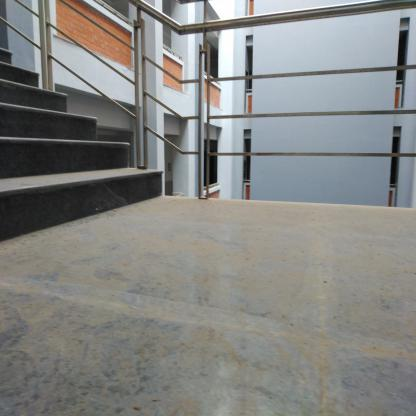stairs: (1, 92, 70, 246)
